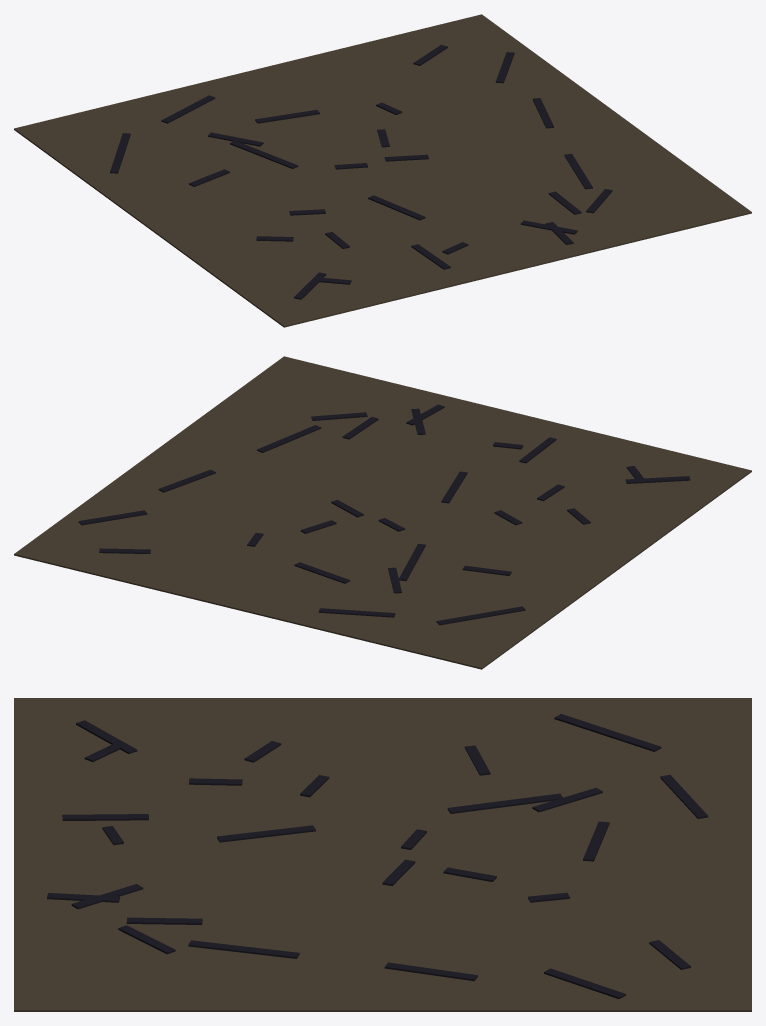
Rendered from s3_floor_strokes.glb.
The picture shows the model from 3 angles, top to bottom: view 1: azimuth 30°, elevation 25°; view 2: azimuth 150°, elevation 25°; view 3: azimuth 270°, elevation 25°; orthographic projection. The views are drawn at different scales.
Visible parts, largest first — view 1: s3_floor_strokes; view 2: s3_floor_strokes; view 3: s3_floor_strokes.
Part boxes in pixels (x1=…): s3_floor_strokes: x1=14, y1=14, x2=751, y2=327; s3_floor_strokes: x1=14, y1=356, x2=751, y2=669; s3_floor_strokes: x1=14, y1=698, x2=751, y2=1011.
Bounding box in the file's own units: 4 × 0.022 × 4.
